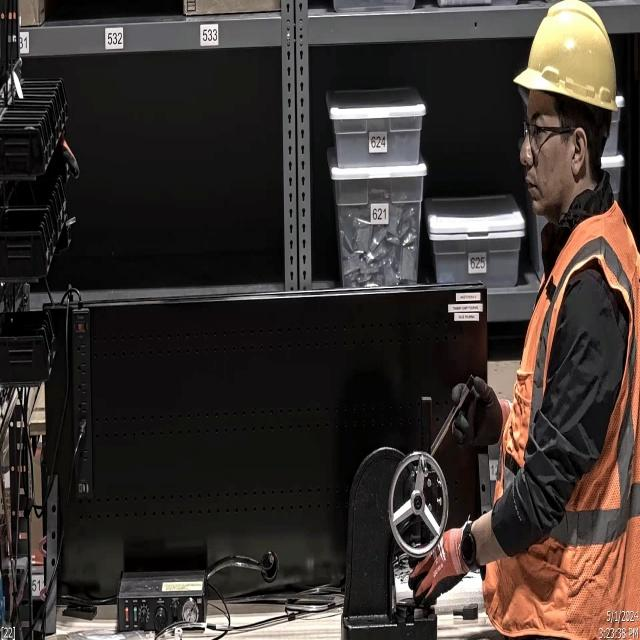construction-gloves: (399, 526, 471, 612)
